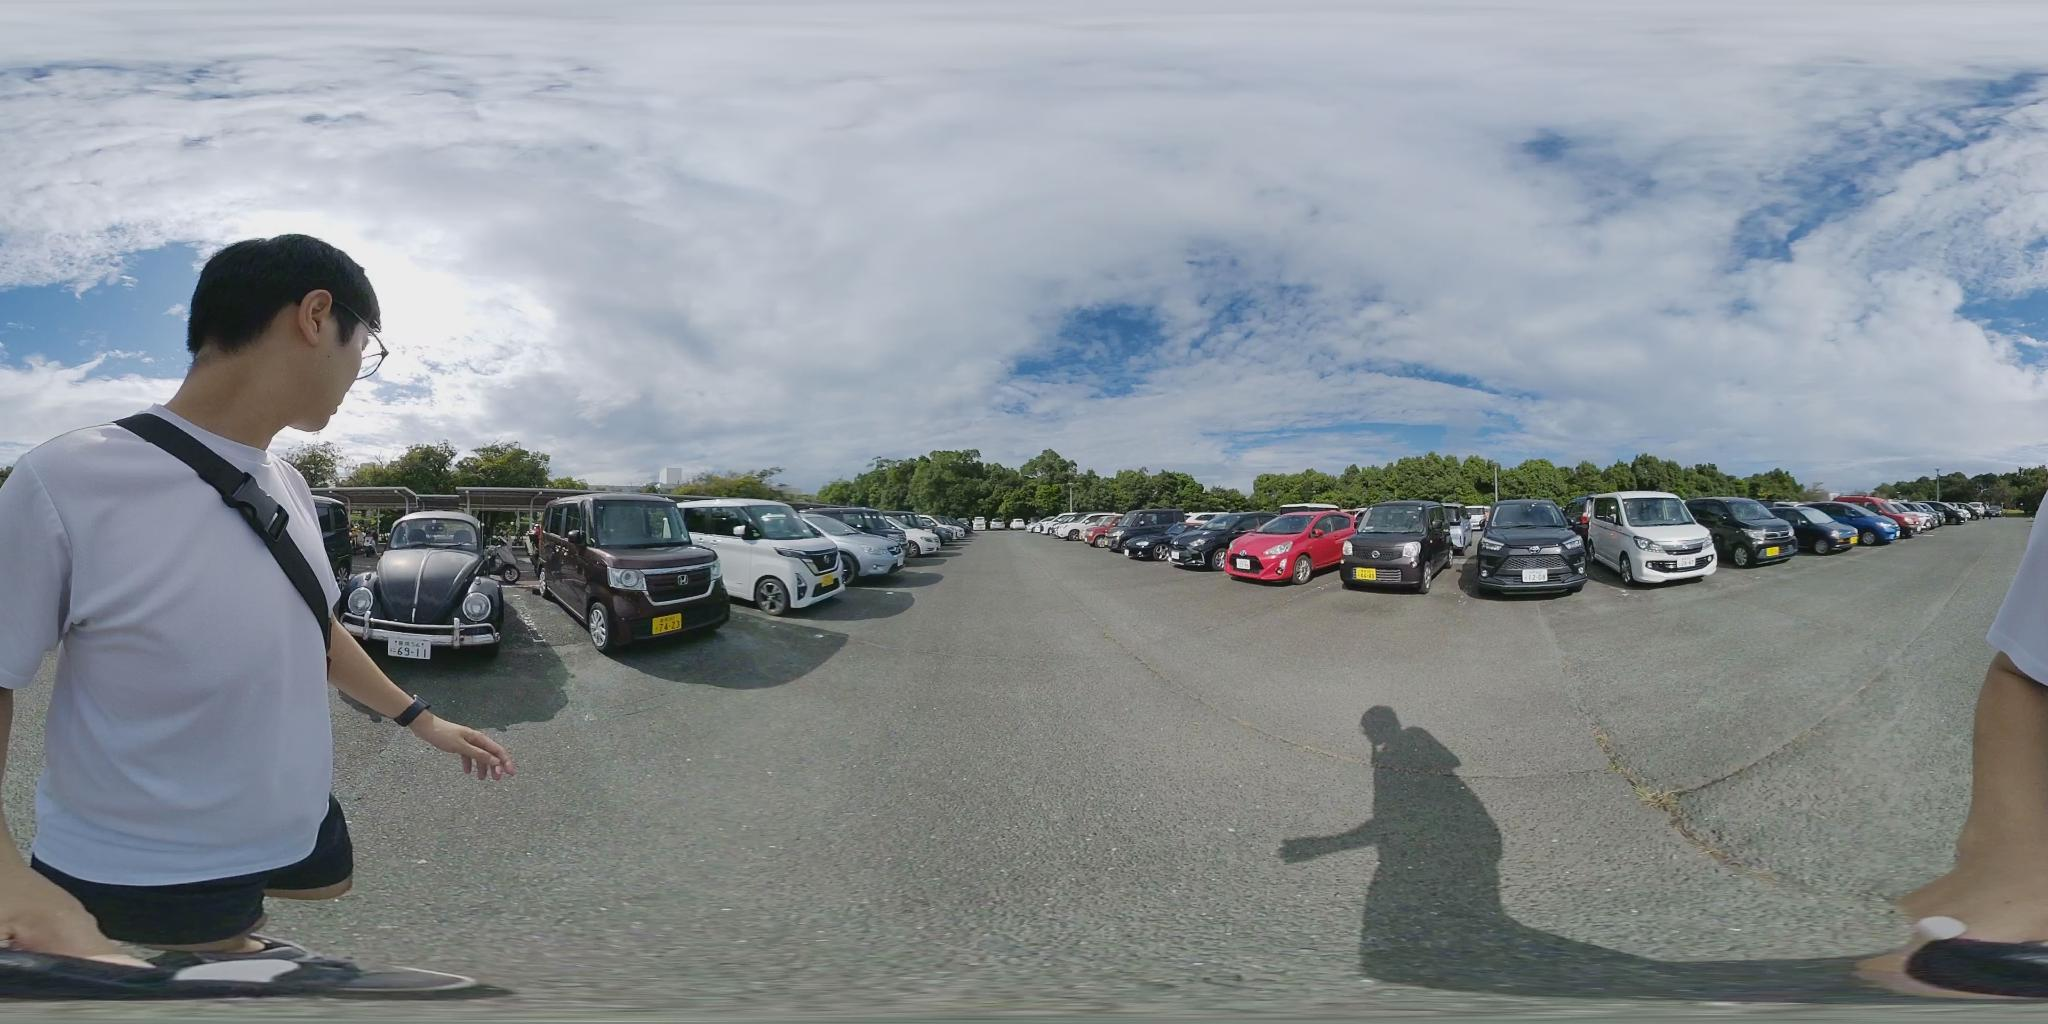car: (529, 494, 741, 647), (344, 512, 519, 658), (671, 498, 858, 610), (1579, 490, 1723, 586), (1458, 500, 1587, 600), (1220, 508, 1360, 584), (1348, 500, 1450, 603), (797, 509, 913, 579), (1690, 500, 1801, 567), (1169, 513, 1277, 577), (1809, 498, 1906, 545), (1785, 504, 1869, 554), (874, 516, 944, 556), (1887, 502, 1940, 533)
